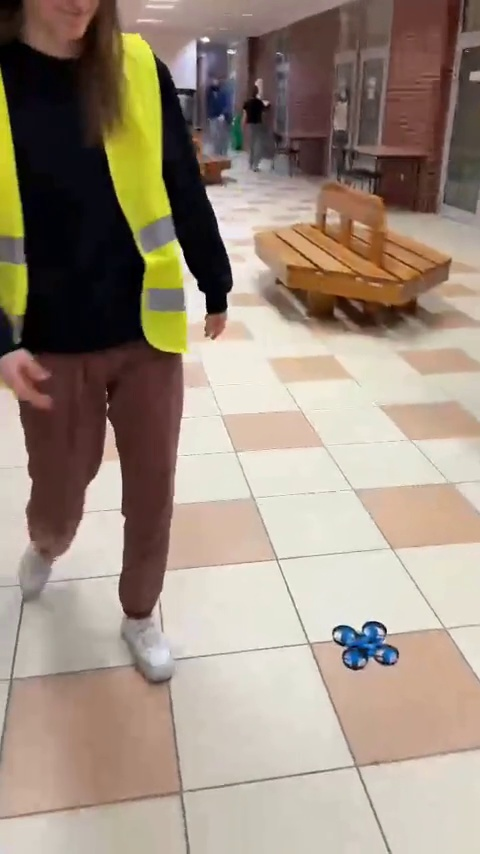drone: (333, 617, 402, 668)
no vest: (195, 70, 237, 165), (240, 87, 272, 169)
vest: (0, 6, 218, 694)
